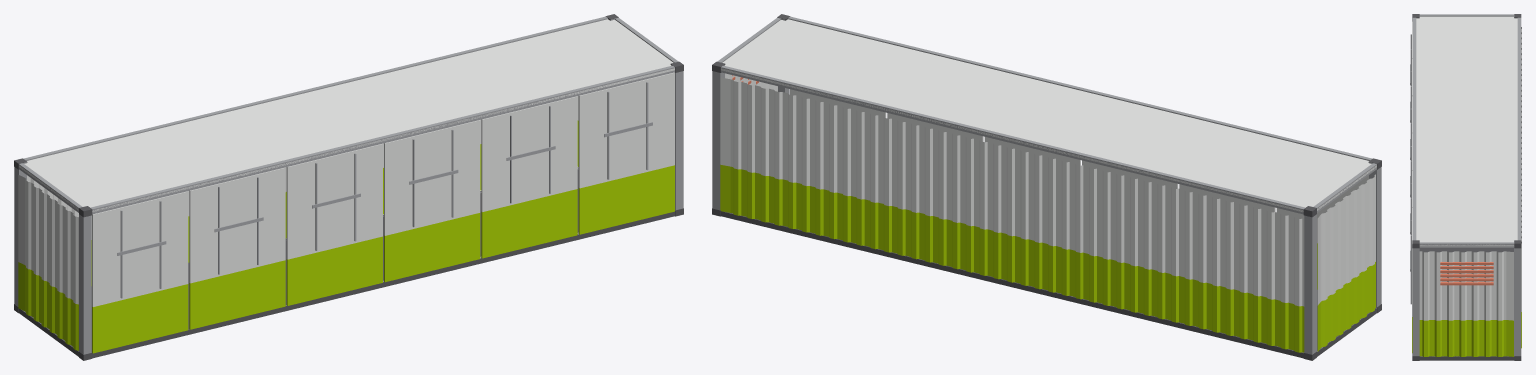
The model's file is container.glb.
3 views of the same model, side by side, from view 1: azimuth 30°, elevation 25°; view 2: azimuth 150°, elevation 25°; view 3: azimuth 270°, elevation 25° (orthographic). The views are drawn at different scales.
Parts seen in each view (by area): view 1: Wall_S, Roof, Wall_S_Band, Frame, Wall_W, Floor, Door_Hardware, Wall_W_Band, Corner_Castings, Wall_N; view 2: Wall_N, Roof, Wall_N_Band, Frame, Wall_W, Floor, Wall_S, Wall_W_Band, Corner_Castings; view 3: Roof, Wall_E, Frame, Wall_E_Band, Exhaust_Louver, Floor, Door_Hardware, Corner_Castings, Wall_S, Wall_N.
Boxes of the visible parts, <box> form: Wall_S: <box>92,72,674,306</box>; Roof: <box>19,19,674,211</box>; Wall_S_Band: <box>92,165,674,353</box>; Frame: <box>14,16,683,354</box>; Wall_W: <box>18,175,78,304</box>; Floor: <box>19,167,674,358</box>; Door_Hardware: <box>117,82,652,298</box>; Wall_W_Band: <box>18,262,78,350</box>; Corner_Castings: <box>14,14,683,360</box>; Wall_N: <box>27,96,578,239</box>; Wall_N: <box>720,77,1304,306</box>; Roof: <box>721,19,1376,211</box>; Wall_N_Band: <box>720,164,1304,352</box>; Frame: <box>712,16,1381,354</box>; Wall_W: <box>1317,174,1375,305</box>; Floor: <box>721,211,1376,358</box>; Wall_S: <box>790,89,1368,243</box>; Wall_W_Band: <box>1317,262,1375,351</box>; Corner_Castings: <box>712,14,1381,360</box>; Roof: <box>1416,16,1517,246</box>; Wall_E: <box>1419,251,1513,320</box>; Frame: <box>1412,14,1521,356</box>; Wall_E_Band: <box>1419,320,1513,356</box>; Exhaust_Louver: <box>1440,262,1493,285</box>; Floor: <box>1419,248,1514,360</box>; Door_Hardware: <box>1410,34,1411,304</box>; Corner_Castings: <box>1412,14,1521,360</box>; Wall_S: <box>1412,21,1412,316</box>; Wall_N: <box>1521,27,1521,311</box>.
Size of the model in its own units: 12.27 by 2.91 by 2.51.
